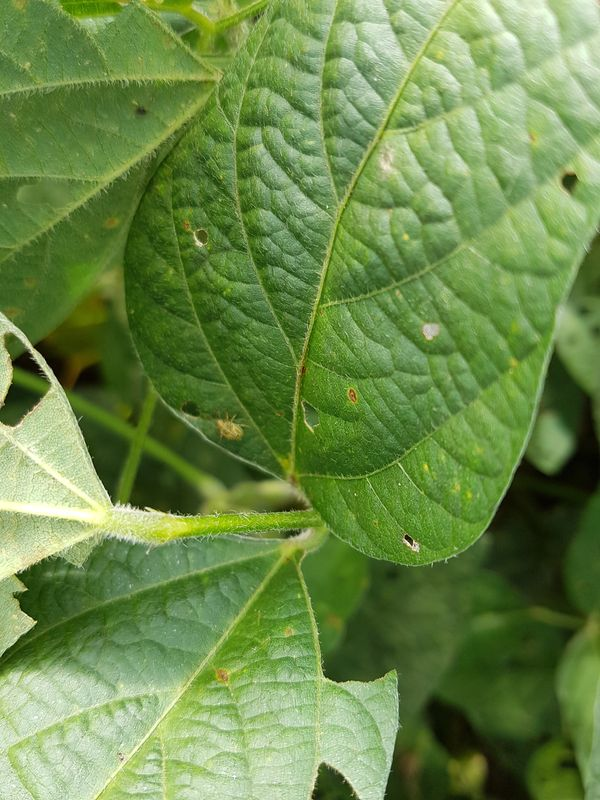Euschistus_heros_ninfa: (206, 408, 256, 451)
